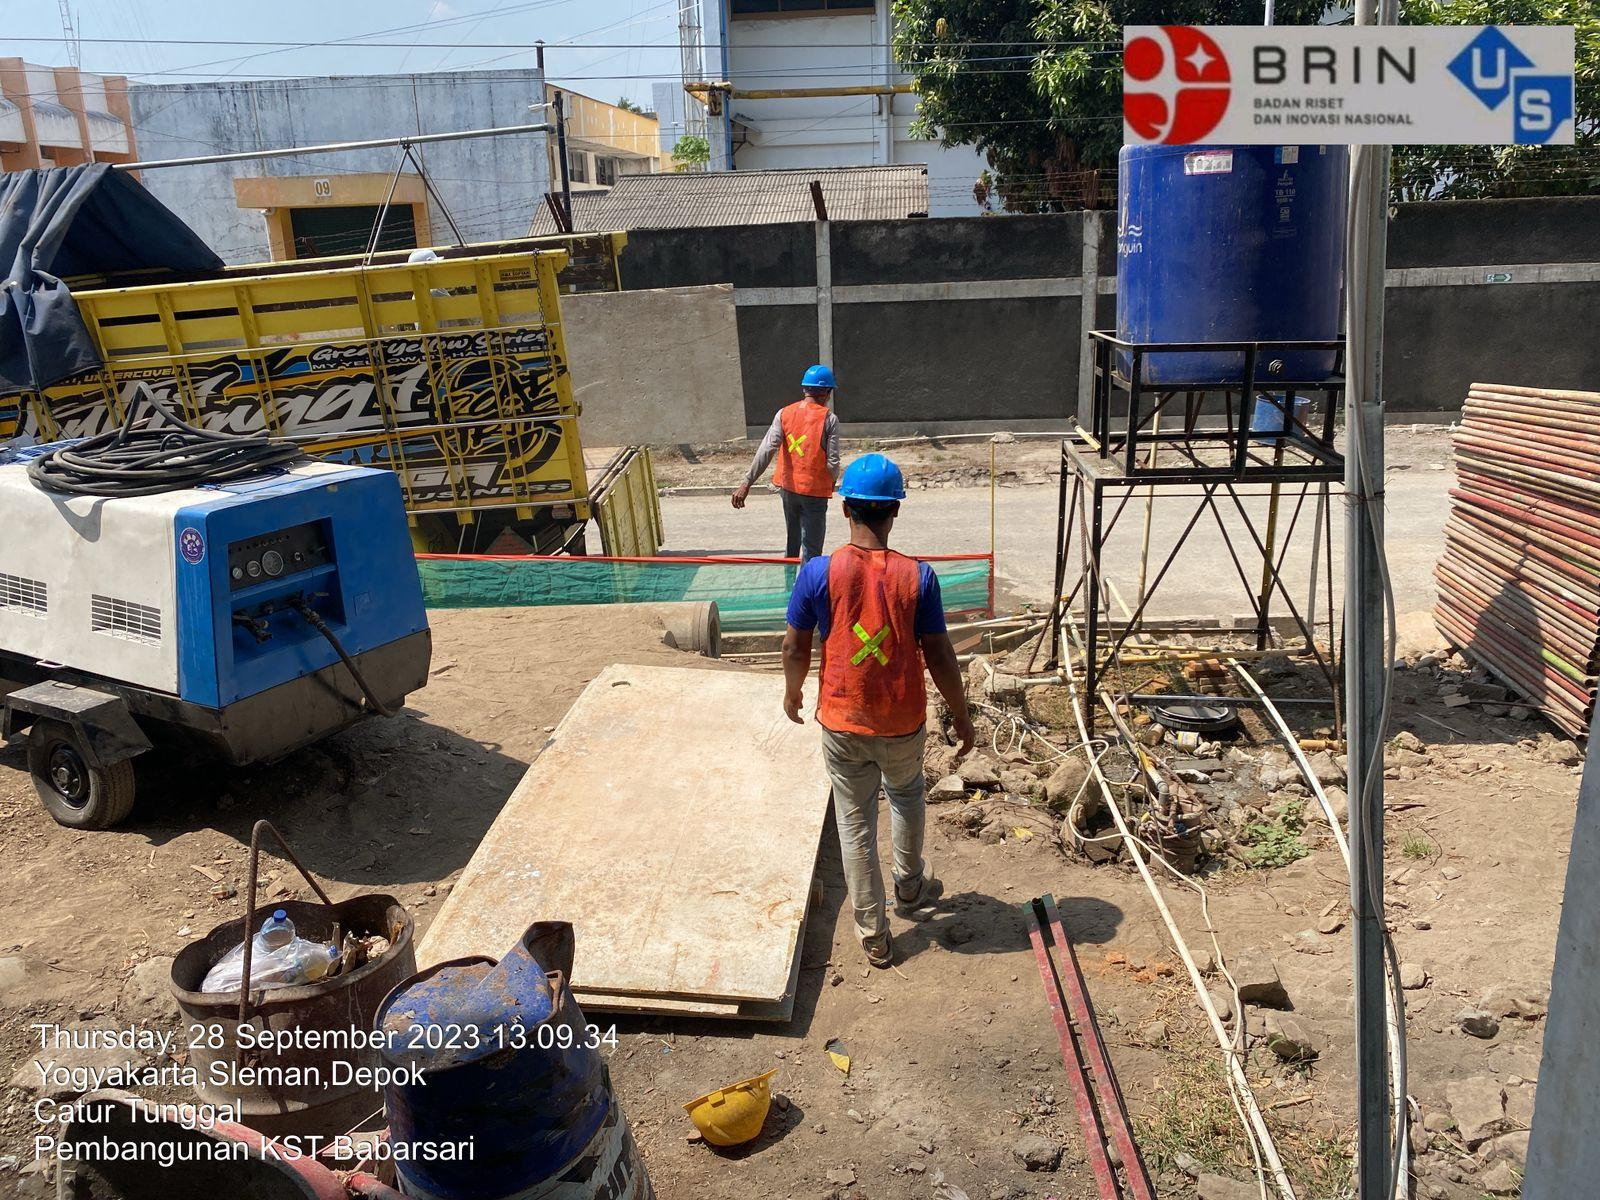hat: (834, 418, 934, 541), (797, 334, 854, 429)
vest: (804, 518, 984, 782), (745, 374, 844, 545)
